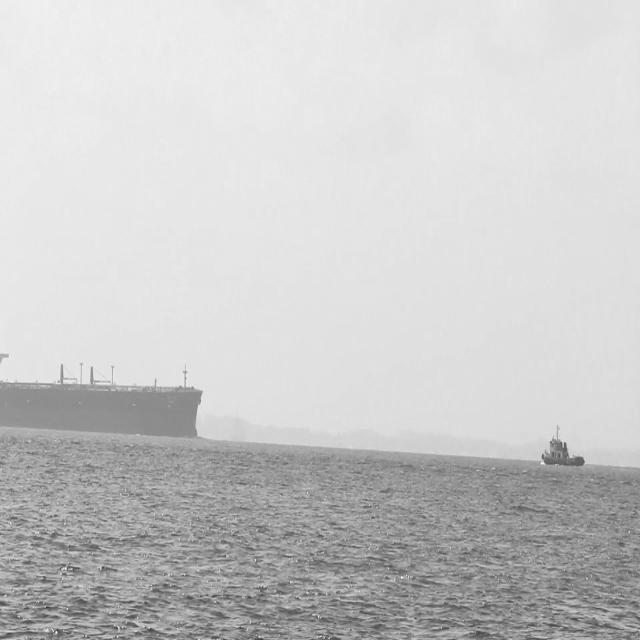ship: (0, 339, 218, 417), (538, 406, 586, 456)
